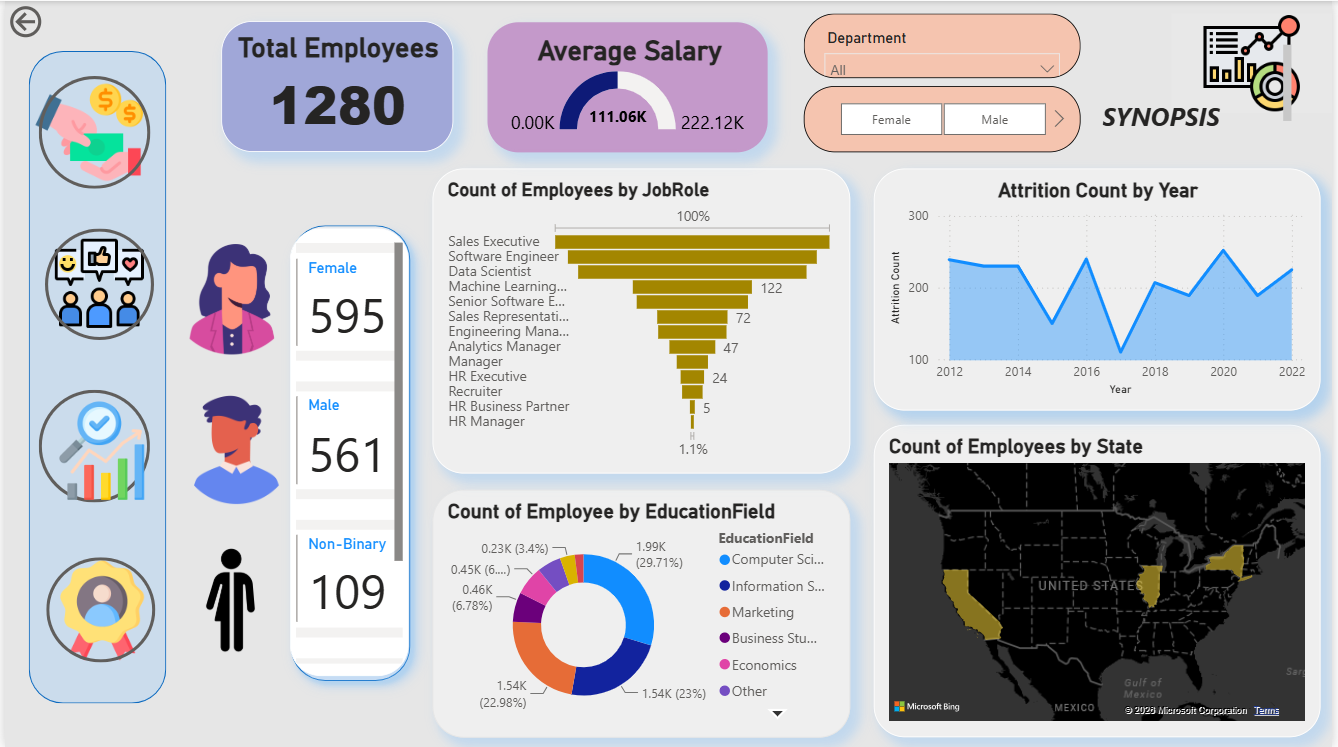

The page's visual inventory and layout, read from the dashboard file:
{"tool":"powerbi","page":{"name":"SYNOPSIS","canvas":[1280,720],"ordinal":1},"visuals":[{"type":"shape","box":[267.1,207.3,133.6,457.7],"z":0},{"type":"shape","box":[22.9,48.3,132.7,629.8],"z":2000},{"type":"card","title":"Total Employees","fields":{"Values":["MEASURES (2).Total Employees"]},"box":[208.7,19.3,224.4,126.7],"z":3000},{"type":"gauge","title":"Average Salary","fields":{"Y":["Avg(Employees.Salary)"]},"box":[465.7,20.5,270.2,125.5],"z":4000},{"type":"image","box":[144.8,217.2,147.8,124.1],"z":4000,"group":"g2"},{"type":"image","box":[167.7,368,111.4,124.1],"z":5000,"group":"g2"},{"type":"filledMap","title":"Count of Employees by State","fields":{"Category":["Employees.State"]},"box":[839,409,431.3,301.9],"z":5000},{"type":"lineChart","fields":{"Category":["Employees.HireDate.Variation.Date Hierarchy.Year"],"Y":["MEASURES (2).Attrition Count"]},"box":[839,161.4,431.3,233.7],"z":6000},{"type":"image","box":[154.8,513.4,126.7,131.6],"z":6000,"group":"g2"},{"type":"funnel","title":"Count of Employees by JobRole","fields":{"Category":["Employees.JobRole"],"Y":["Count(Employees.EmployeeID)"]},"box":[412.6,161.7,403,294.4],"z":7000},{"type":"multiRowCard","fields":{"Values":["Employees.Gender","Employees.EmployeeID"]},"box":[275.4,219.4,114.3,432.2],"z":7000,"group":"g2"},{"type":"slicer","fields":{"Values":["Employees.Department"]},"box":[770.8,12.5,267.1,62.6],"z":8000},{"type":"slicer","fields":{"Values":["Employees.Gender"]},"box":[770.8,82.1,267.1,64],"z":9000},{"type":"image","box":[1125,12.1,155,95.9],"z":10000,"group":"g1"},{"type":"donutChart","title":"Count of Employee by EducationField","fields":{"Category":["Employees.EducationField"],"Y":["CountNonNull(Employees.EmployeeID)"]},"box":[412.6,471.7,403,238.9],"z":10000},{"type":"textbox","box":[1054.4,37.8,191.9,89],"z":11000,"group":"g1"},{"type":"image","box":[22.5,75,116.2,103.8],"z":11000},{"type":"actionButton","box":[32.5,375,107.5,108.8],"z":12000},{"type":"actionButton","box":[32.2,71.8,107.7,108.9],"z":13000},{"type":"image","box":[43.8,227.5,95,88.8],"z":14000},{"type":"actionButton","box":[38.4,219.1,105.2,107.7],"z":15000},{"type":"image","box":[40,537.5,108.8,100],"z":16000},{"type":"actionButton","box":[39.6,537.3,105.2,101.5],"z":17000},{"type":"image","box":[42.5,385,102.5,98.8],"z":18000},{"type":"actionButton","box":[0,0,100,40],"z":19000},{"type":"group","id":"g1","title":"Group 1","box":[1054.4,12.1,225.6,114.6],"z":20000},{"type":"group","id":"g2","title":"Group 2","box":[144.8,217.2,244.9,434.3],"z":21000}]}

Visuals, with their boxes in screenshot pixels (x1, y1, x2, y2), scaled from the page's 1280x720 canvas onto the 1338x747 screenshot:
shape: 279 215 419 690
shape: 24 50 163 704
"Total Employees" card: 218 20 453 151
"Average Salary" gauge: 487 21 769 151
image: 151 225 306 354
image: 175 382 292 511
"Count of Employees by State" filledMap: 877 424 1328 738
lineChart - Employees.HireDate.Variation.Date Hierarchy.Year x MEASURES (2).Attrition Count: 877 167 1328 410
image: 162 533 294 669
"Count of Employees by JobRole" funnel: 431 168 853 473
multiRowCard - Employees.Gender x Employees.EmployeeID: 288 228 407 676
slicer - Employees.Department: 806 13 1085 78
slicer - Employees.Gender: 806 85 1085 152
image: 1176 13 1337 112
"Count of Employee by EducationField" donutChart: 431 489 853 737
textbox: 1102 39 1303 132
image: 24 78 145 186
actionButton: 34 389 146 502
actionButton: 34 74 146 187
image: 46 236 145 328
actionButton: 40 227 150 339
image: 42 558 156 661
actionButton: 41 557 151 663
image: 44 399 152 502
actionButton: 0 0 105 42
"Group 1" group: 1102 13 1337 131
"Group 2" group: 151 225 407 676
